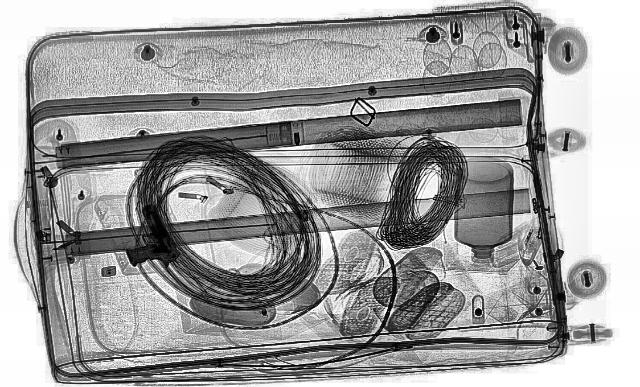Gun: (114, 204, 184, 271)
